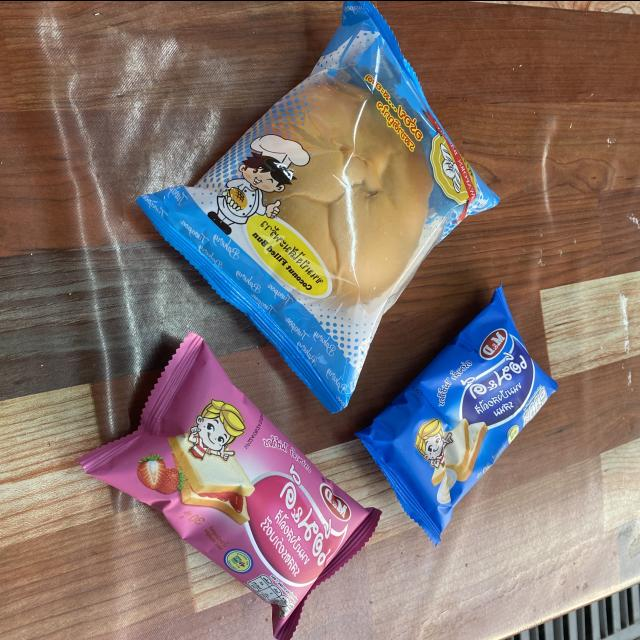plastik: (138, 0, 498, 411), (77, 332, 380, 640), (356, 286, 558, 543)
